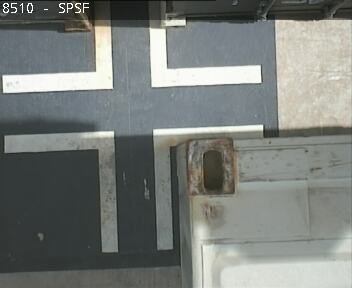groundmarker_1: (4, 122, 264, 253), (1, 1, 262, 93)
